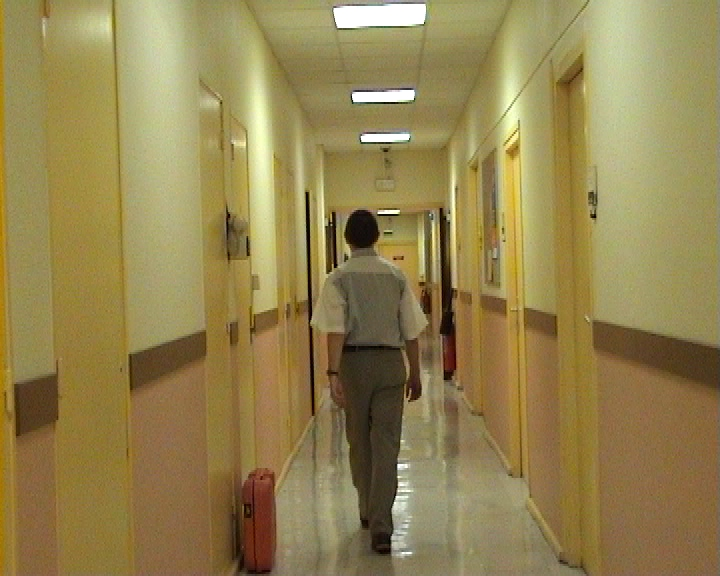leave bag unattended: (211, 446, 309, 576)
